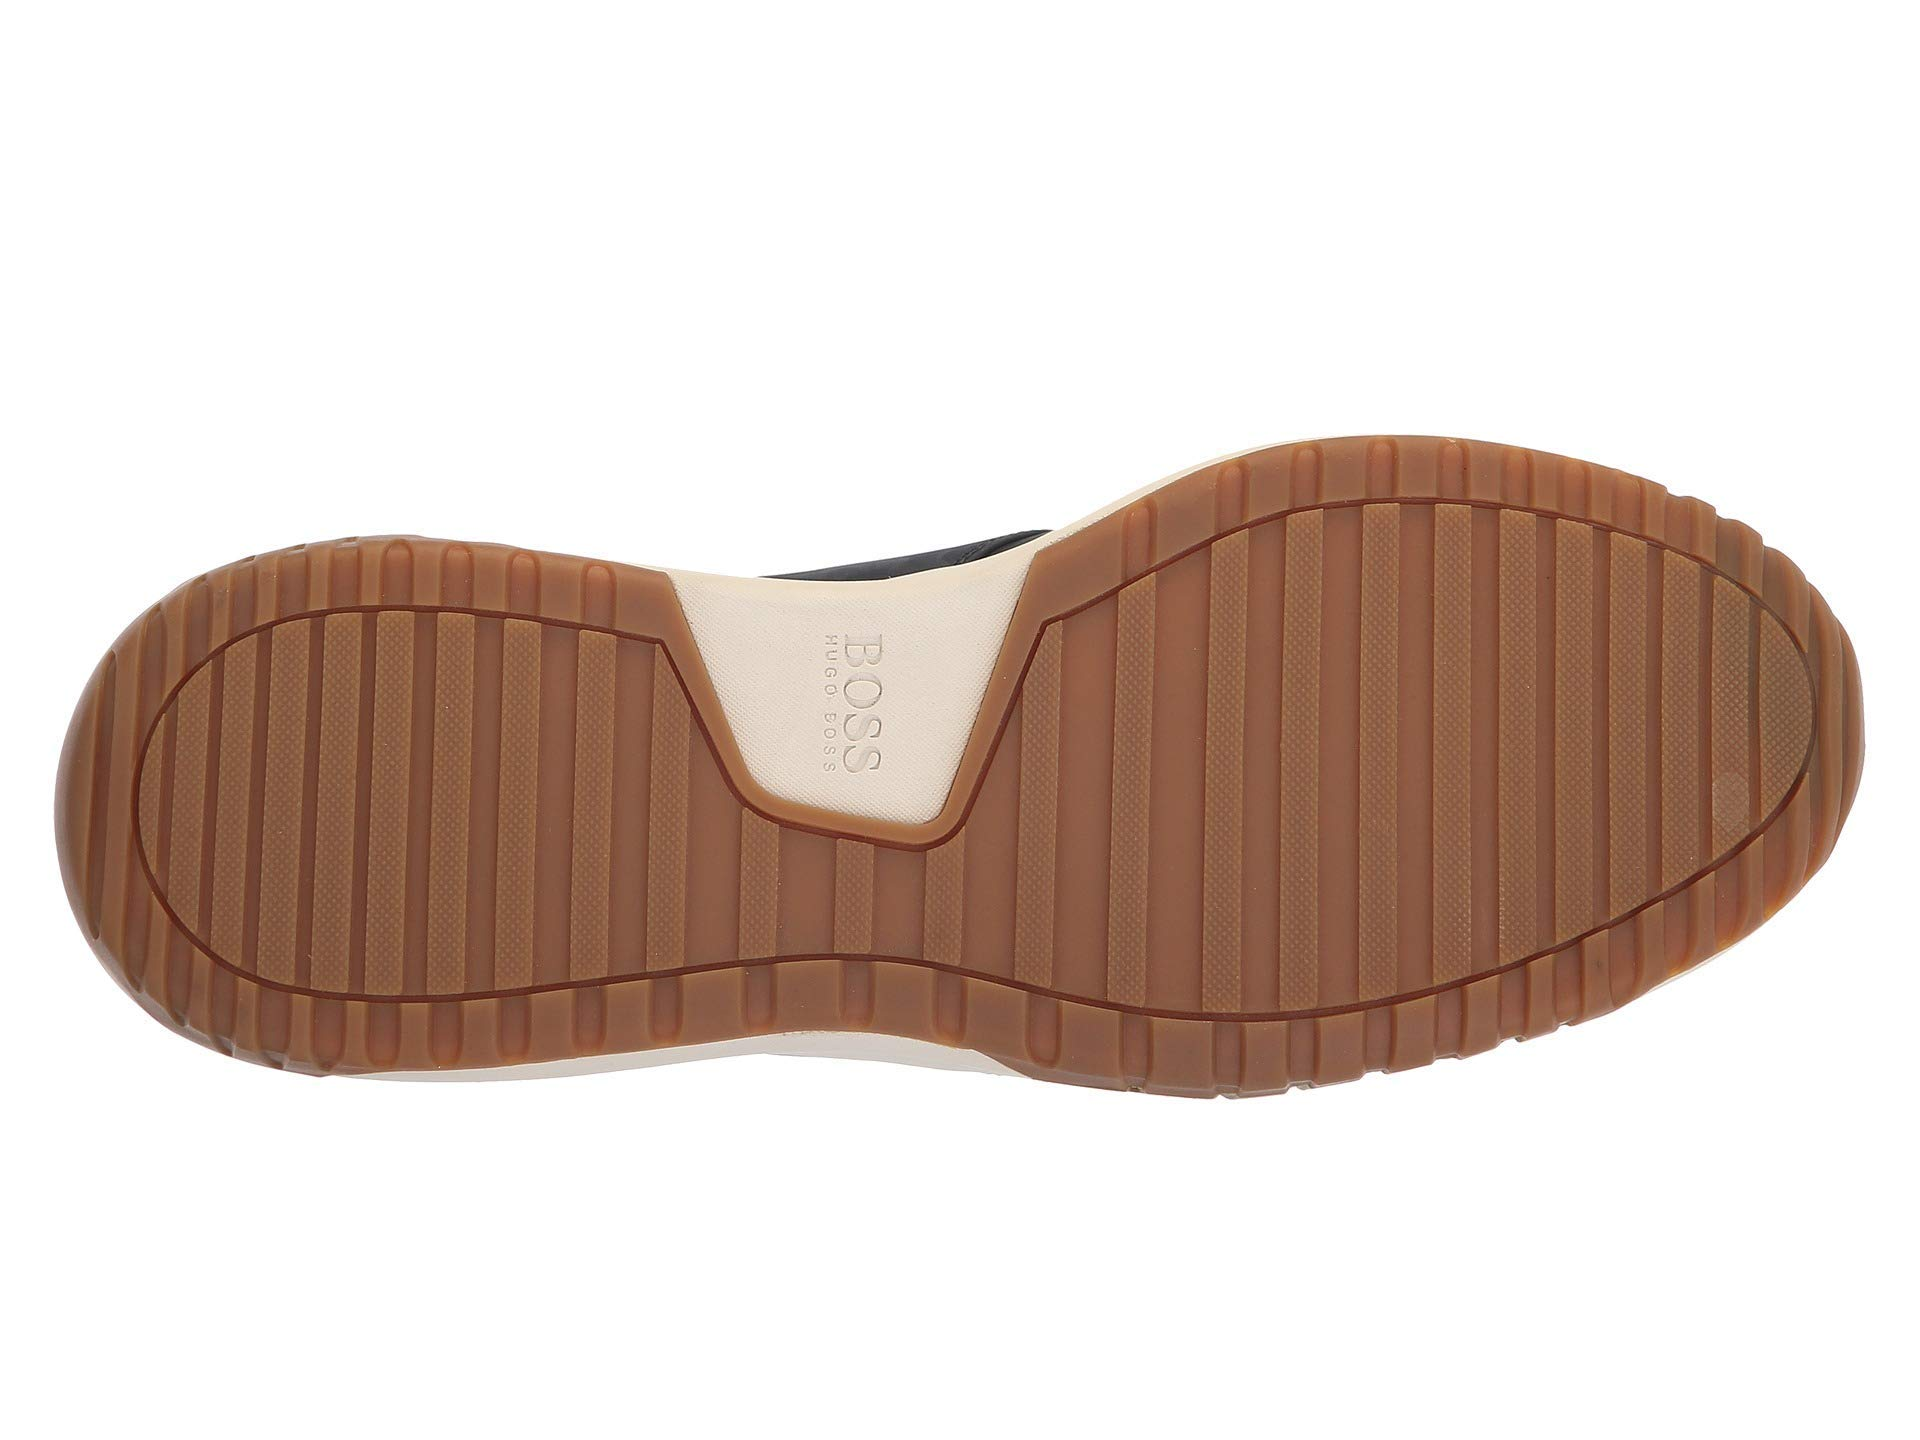circle: (792, 610, 933, 803)
line: (1173, 570, 1553, 895), (228, 658, 587, 973), (1560, 566, 1799, 826), (603, 803, 822, 1030), (954, 917, 1138, 1104), (1231, 393, 1417, 566)
quad: (954, 917, 1138, 1104), (1231, 393, 1417, 566)
text: (792, 610, 933, 803)
